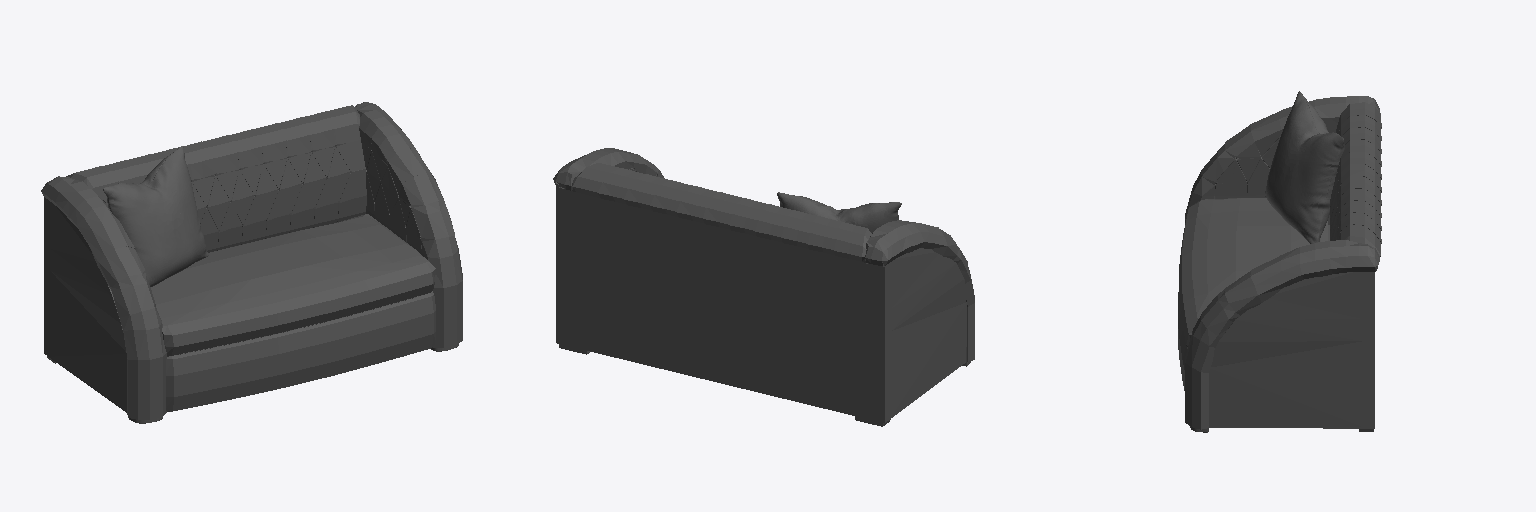
The model's file is sofa2.obj.
The picture shows the model from 3 angles: view 1: azimuth 30°, elevation 25°; view 2: azimuth 150°, elevation 25°; view 3: azimuth 270°, elevation 25°; orthographic projection.
Parts seen in each view (by area): view 1: Object03; view 2: Object03; view 3: Object03.
Part boxes in pixels (left/top/right/bottom): Object03: left=41, top=102, right=462, bottom=423; Object03: left=553, top=148, right=974, bottom=426; Object03: left=1178, top=91, right=1381, bottom=432.
Size of the model in its own units: 4.78 by 2.63 by 2.5.